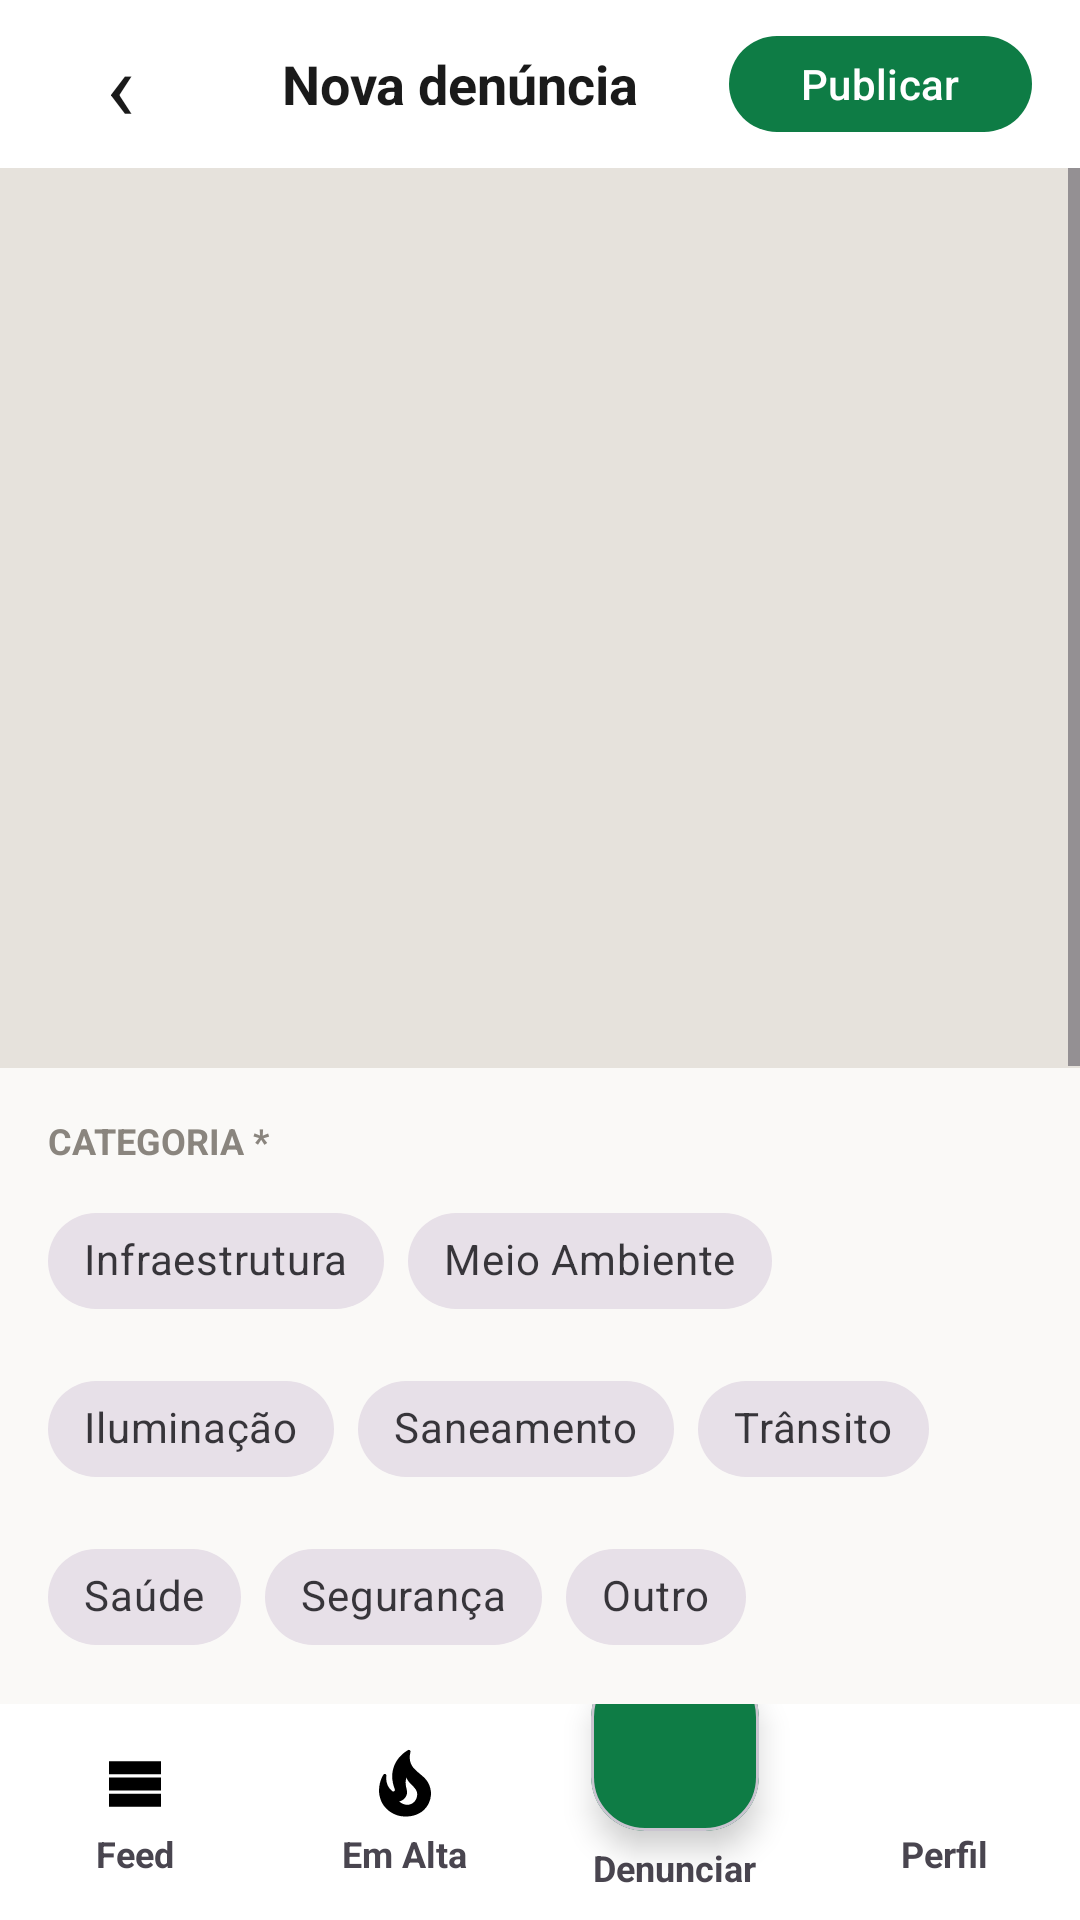

Point at icon controls on the screen. Image size 1080x1920, points as [x,y].
fire: [405,1783]
